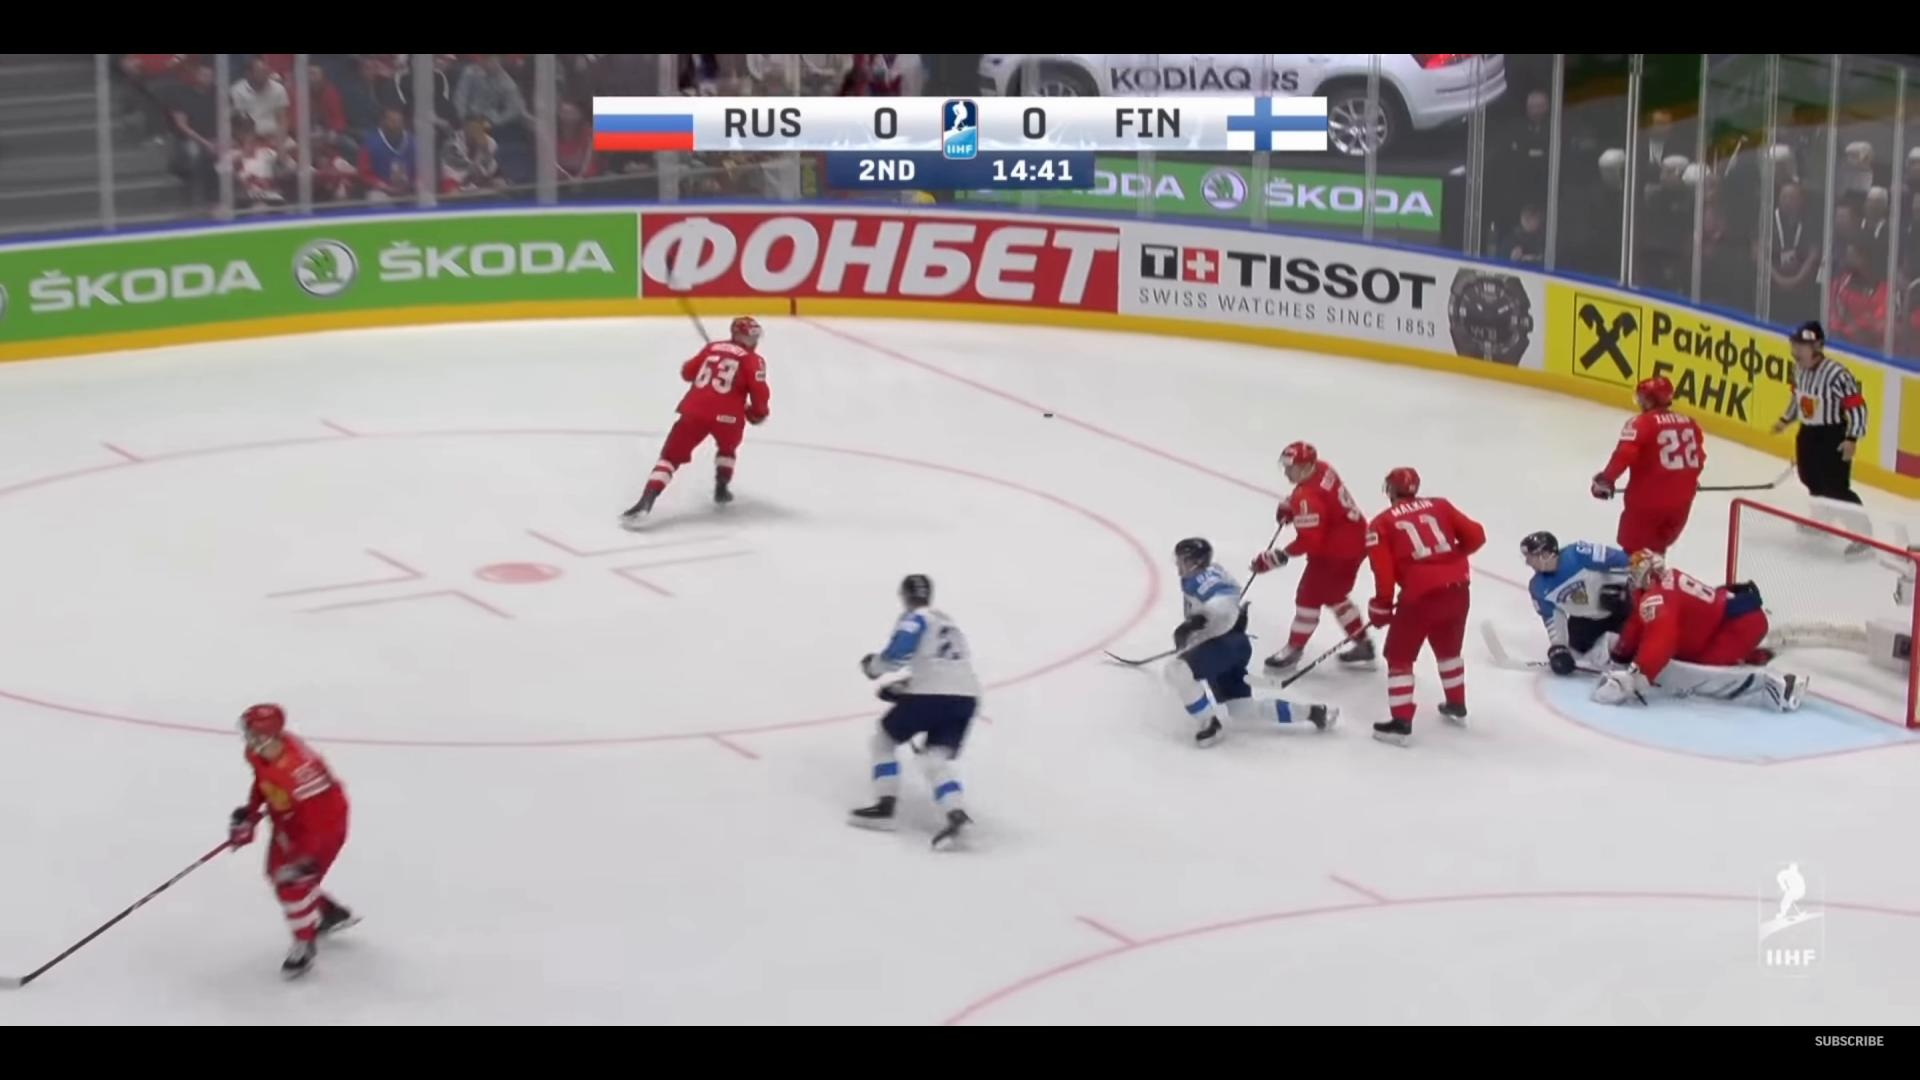puck: (1042, 413, 1052, 418)
